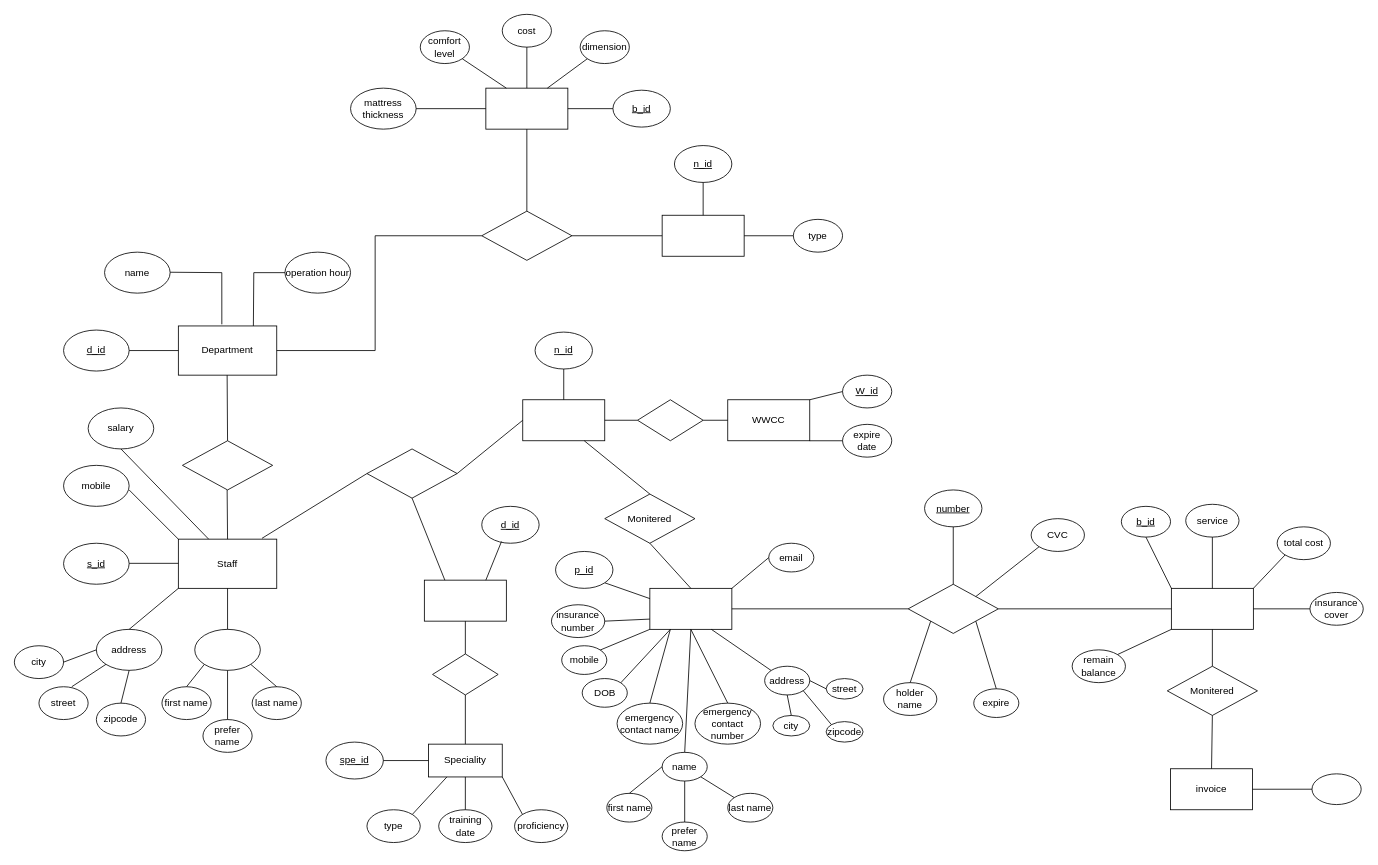
Some shapes in this 1378 by 865 pixel diagram are drawn without their labels. The centre of each missing label's shape, as x and y in pixels:
"Allocate" goes at point (526, 235).
"Assign" goes at point (411, 473).
"Bed" goes at point (526, 108).
"Billing statement" goes at point (1212, 608).
"Doctor" goes at point (465, 600).
"full name" goes at point (227, 649).
"i_id" goes at point (1336, 789).
"Nurse" goes at point (563, 420).
"Owns" goes at point (670, 420).
"Patient" goes at point (690, 608).
"Pay" goes at point (952, 608).
"specialize" goes at point (465, 674).
"Ward" goes at point (702, 235).
"Workin" goes at point (227, 465).
